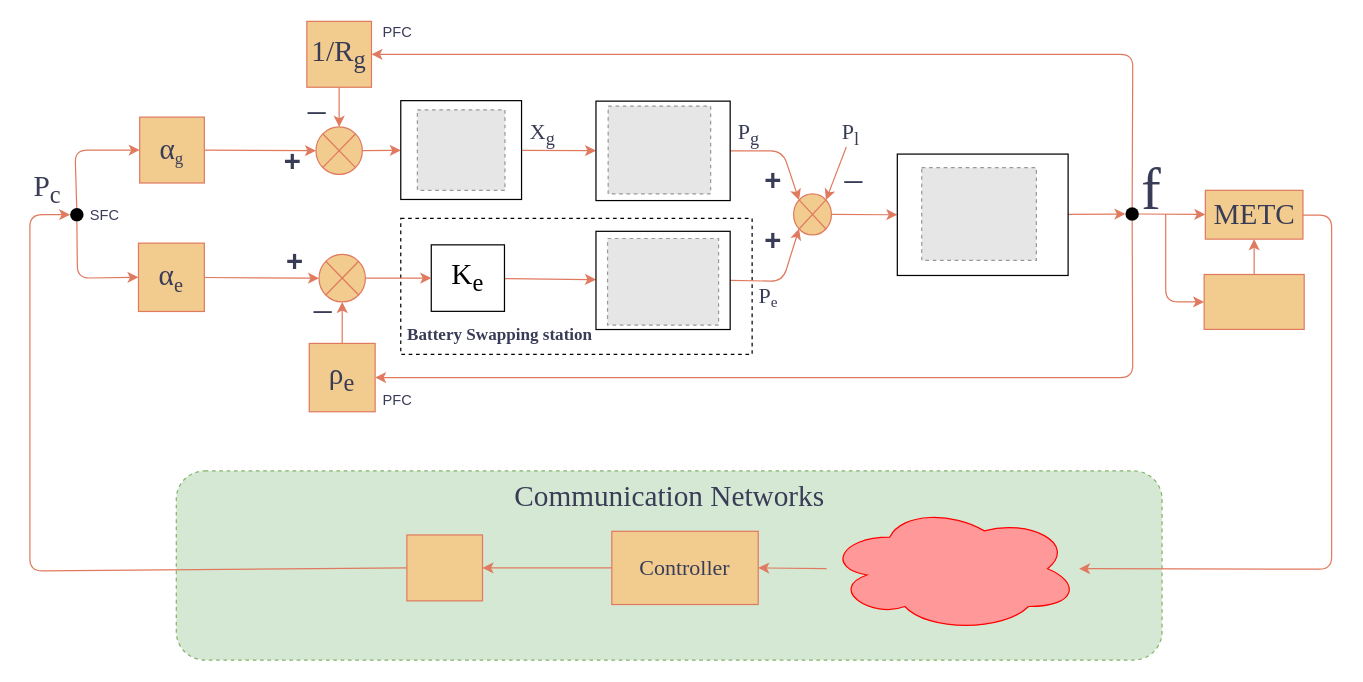
This 1363x682 diagram has some shape labels left out. Grey dashed boxes stand in for pictures. The shapes that lost their labels are listed below. From the top down, each one's centre as x and y in pixels, then its label:
At point 1253,301: "queue buffer".
At point 444,567: "ZOH".
At point 952,568: "Deception Attack".
